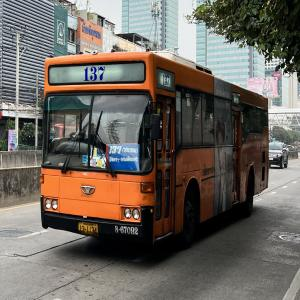BMTA-bus: (39, 52, 270, 249)
Bus Line Number: (77, 62, 110, 83)
Bus Side Number: (113, 223, 138, 236)
Destination Sign: (109, 143, 140, 174)
